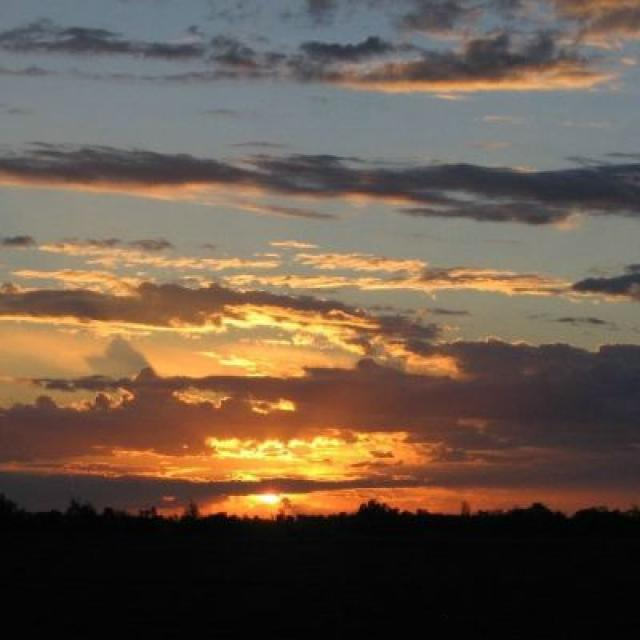Ac: (1, 110, 640, 501)
